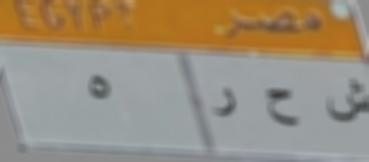5: (79, 68, 128, 110)
7aa: (260, 83, 306, 130)
raa: (210, 82, 245, 119)
sheen: (320, 78, 369, 134)
